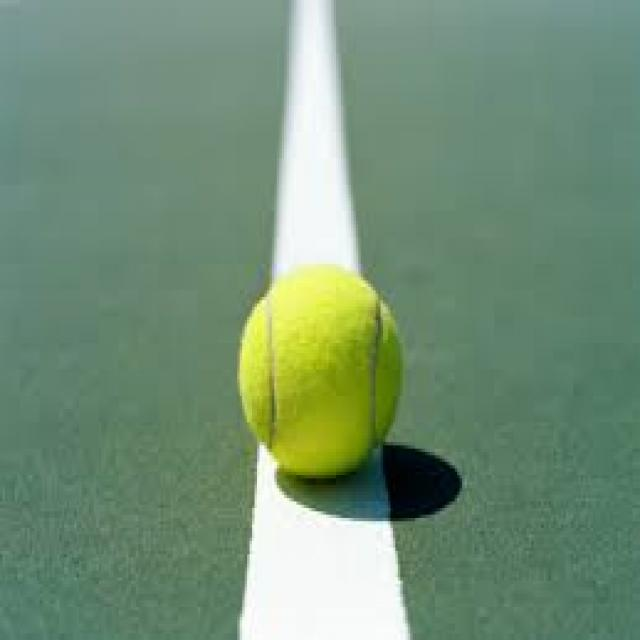Tennis-Ball: (238, 262, 403, 479)
